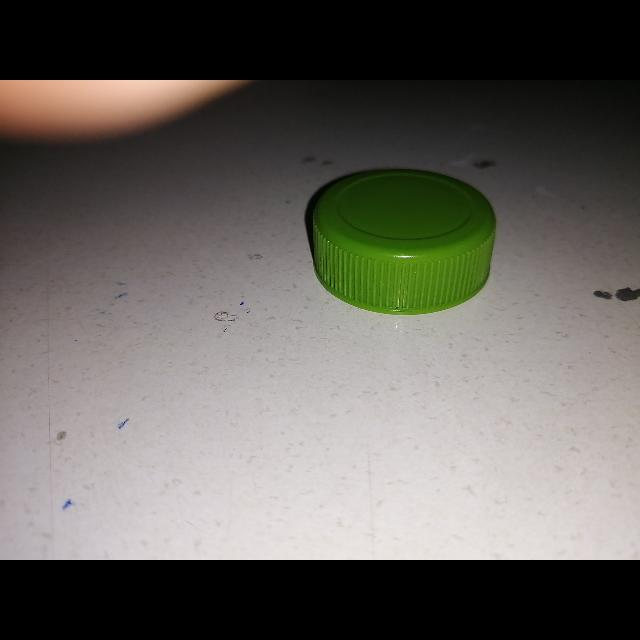plastic_bottle_cap: (309, 164, 497, 316)
